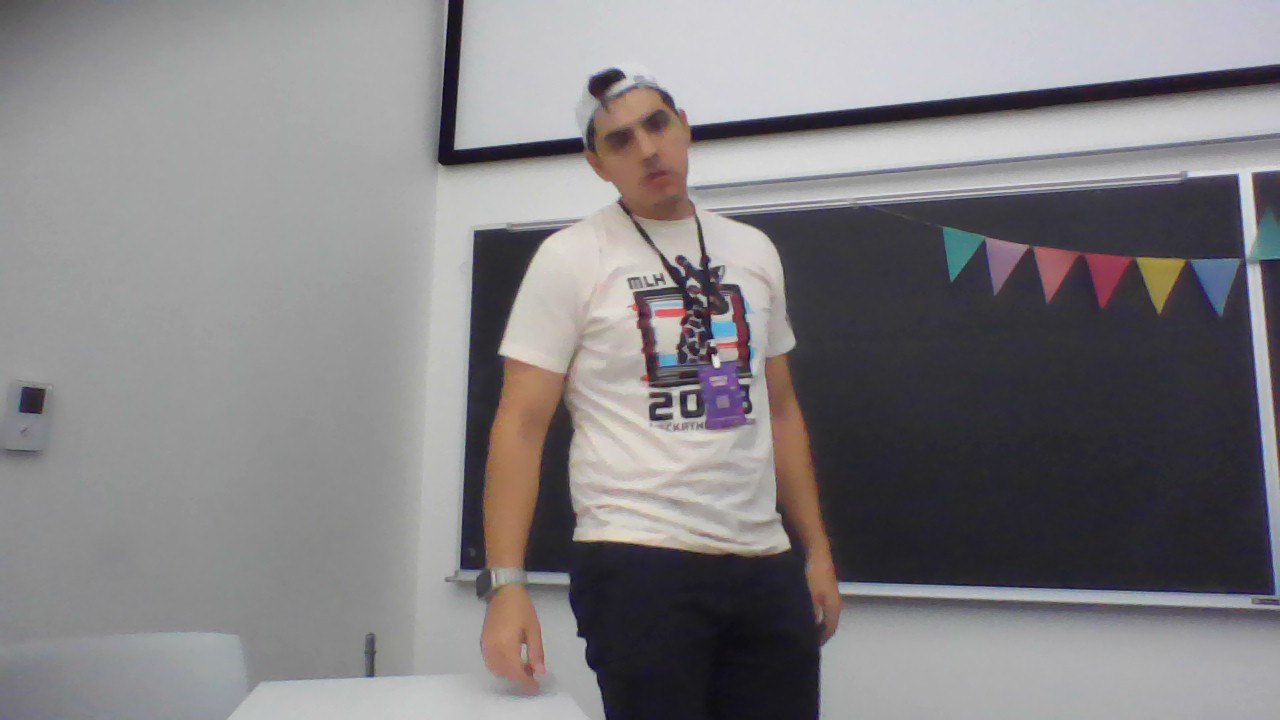height_frame: (494, 64, 864, 713)
hip_frame: (579, 521, 805, 567)
shoulder_frame: (538, 225, 784, 259)
waist_frame: (570, 409, 772, 450)
